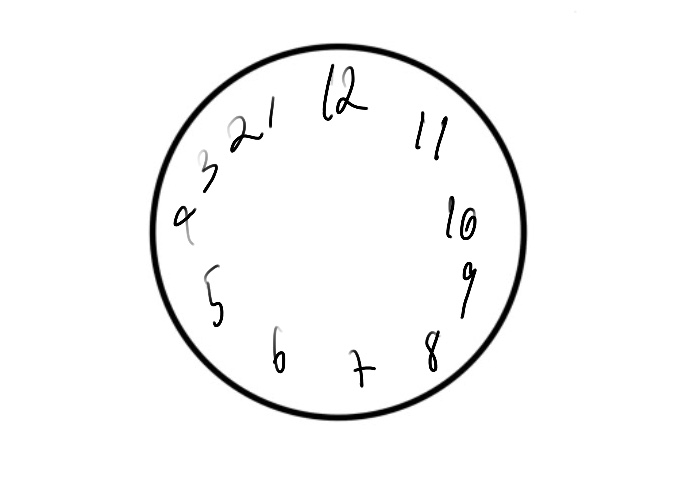eight: (416, 324, 444, 376)
eleven: (411, 104, 451, 167)
five: (198, 256, 228, 335)
four: (167, 201, 201, 247)
nine: (454, 255, 479, 323)
one: (263, 90, 280, 133)
seven: (343, 343, 384, 395)
six: (267, 322, 284, 377)
ten: (440, 193, 481, 249)
three: (194, 146, 218, 197)
twelve: (317, 59, 372, 124)
two: (223, 116, 266, 153)
